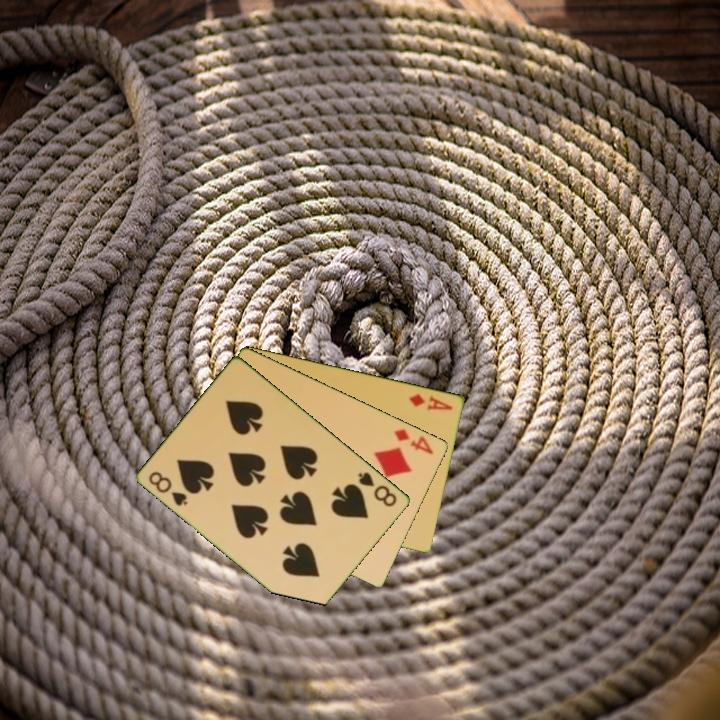4d: (391, 425, 436, 457)
8s: (355, 468, 400, 510), (145, 468, 191, 509)
Ad: (406, 390, 456, 413)
